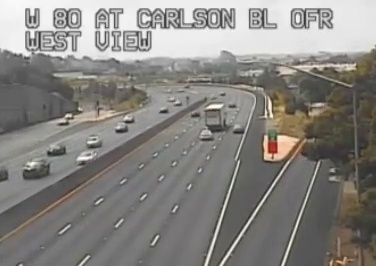car: (199, 130, 213, 140)
truck: (204, 103, 226, 131)
